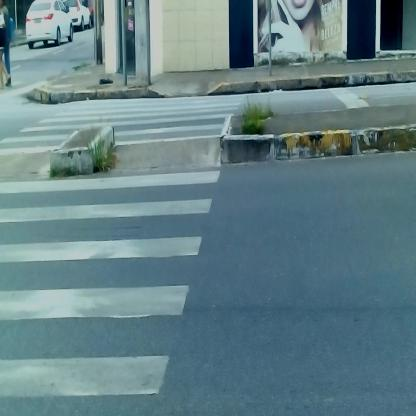crosswalk: (3, 97, 238, 416)
sidewalk: (38, 53, 412, 115)
